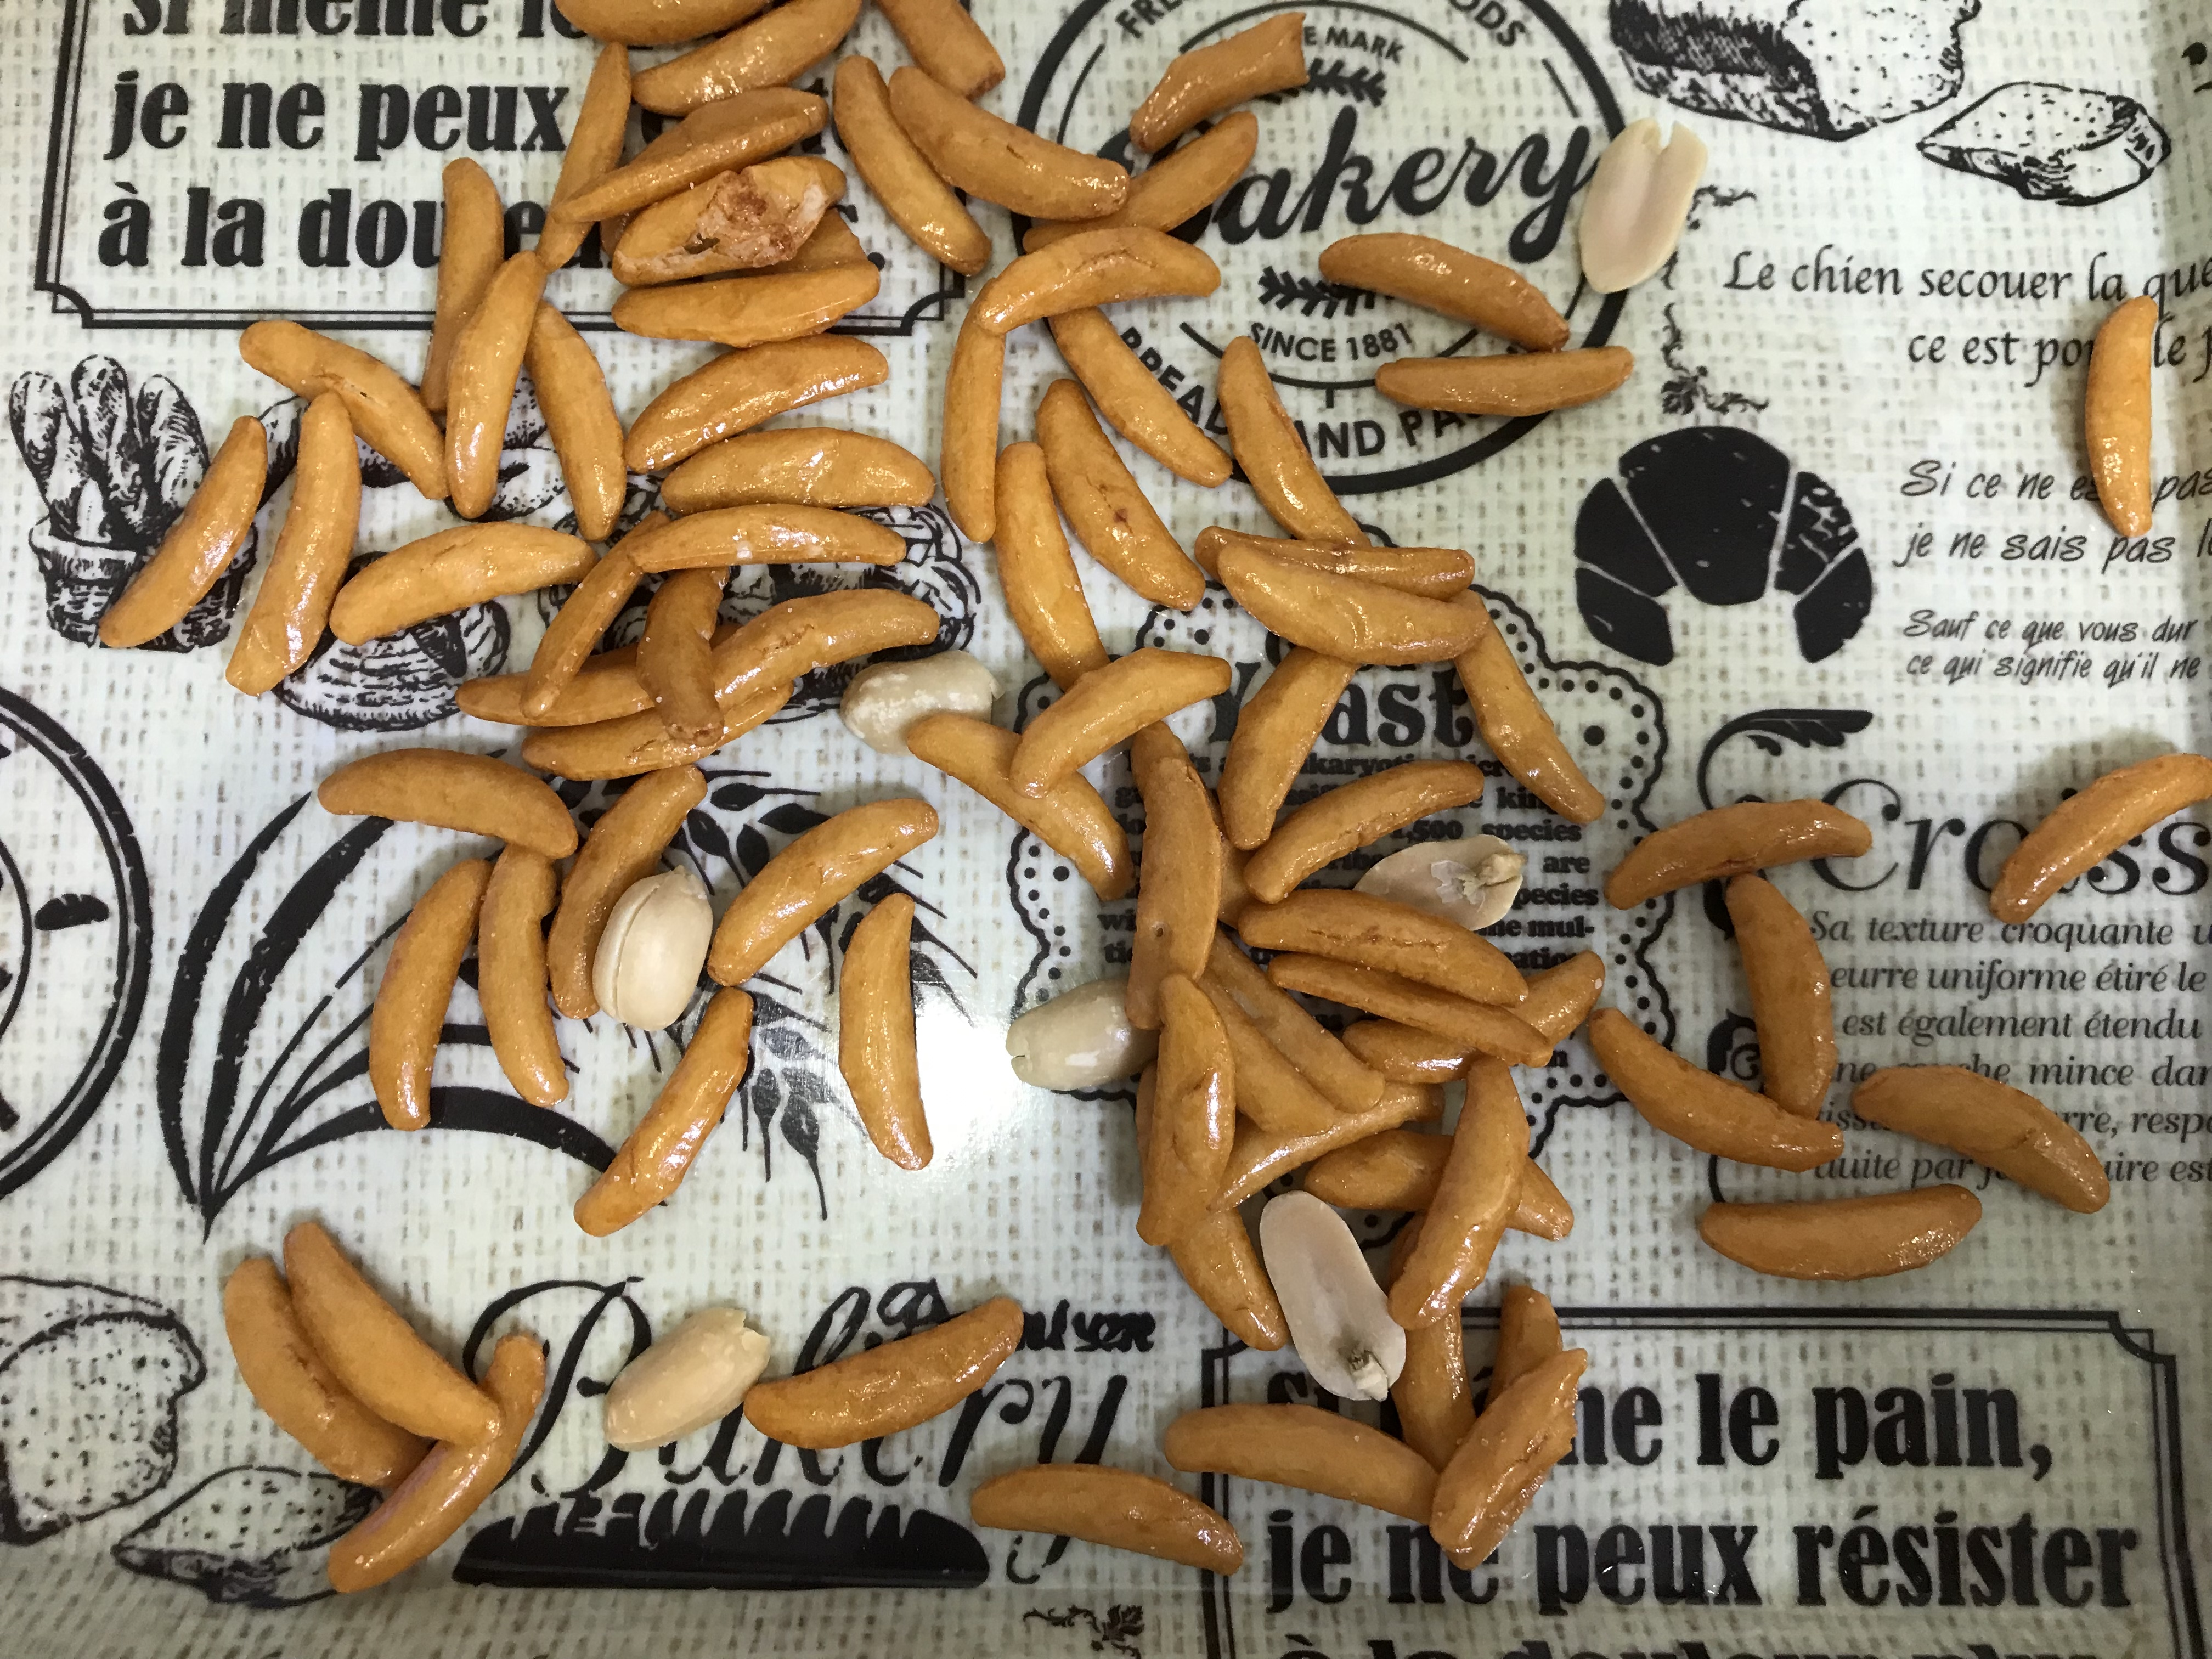peanut: (1251, 1176, 1416, 1413), (601, 1295, 772, 1466), (1573, 110, 1717, 307), (824, 627, 1015, 765), (1341, 821, 1538, 948), (580, 857, 714, 1039), (995, 971, 1158, 1103)
